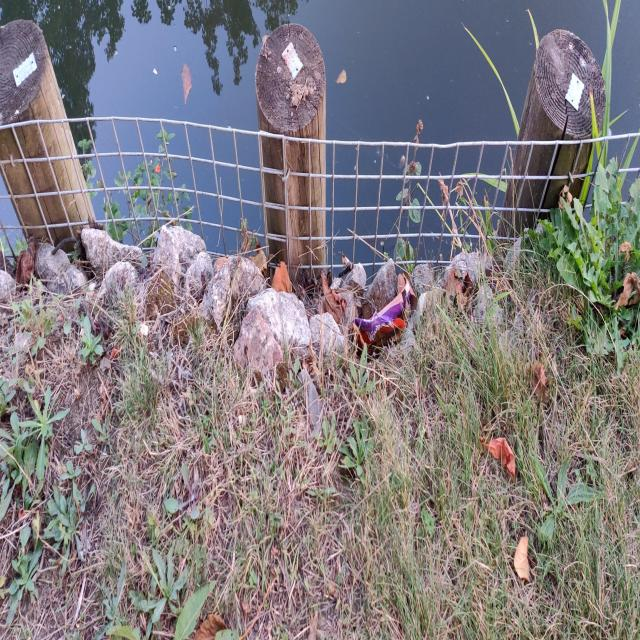litter: (350, 280, 410, 356)
